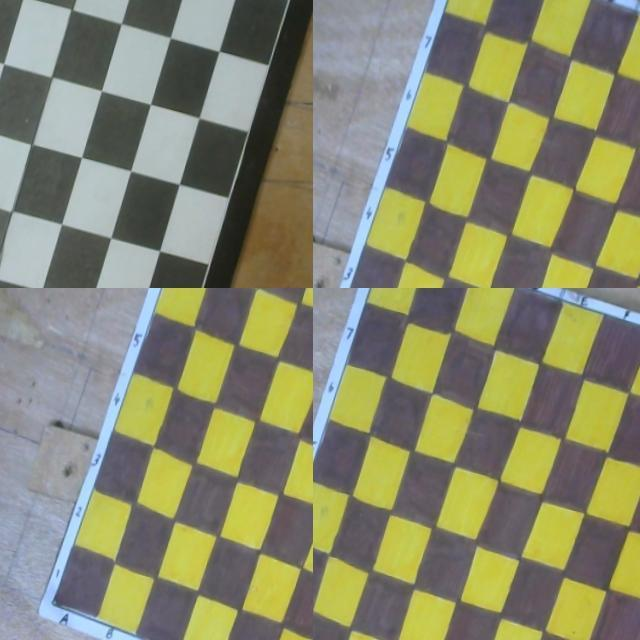chess-table-corners: (54, 593, 64, 608), (458, 0, 468, 5), (206, 288, 216, 293), (0, 281, 3, 288), (380, 288, 388, 290), (0, 0, 3, 4)
